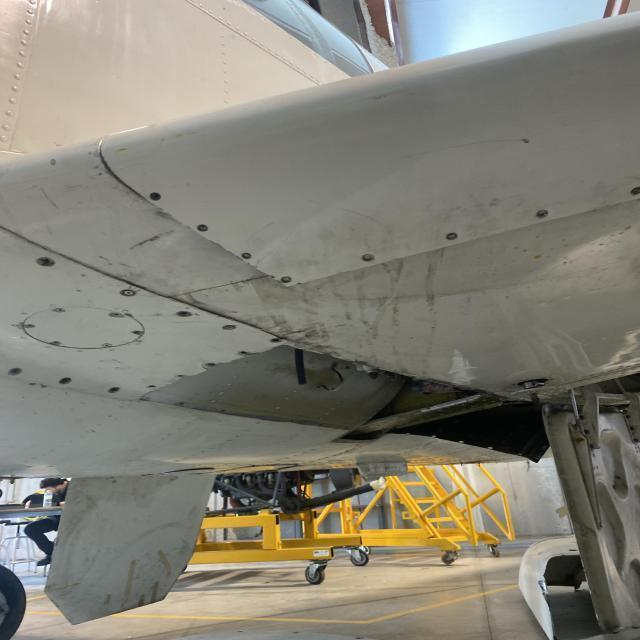Missing_Fastener: (532, 206, 552, 222), (441, 230, 464, 242), (193, 222, 211, 234), (358, 254, 378, 264), (149, 191, 164, 203), (38, 257, 56, 267), (278, 274, 294, 285), (238, 251, 256, 260), (106, 385, 122, 395), (268, 338, 284, 346), (58, 377, 72, 385), (238, 348, 249, 358), (177, 310, 190, 318), (204, 362, 217, 368), (146, 384, 156, 389)
